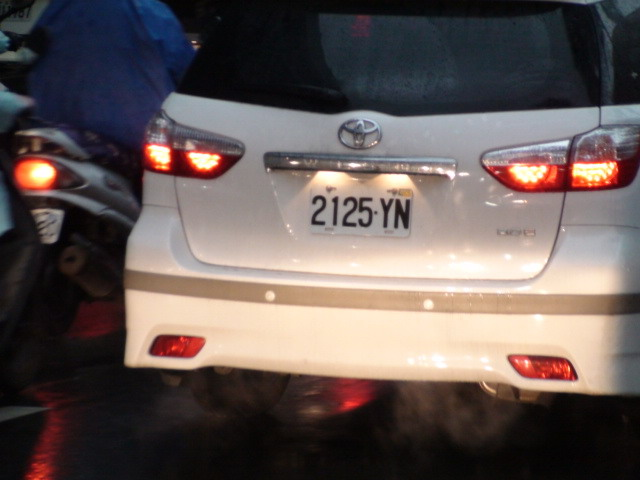plate: (308, 181, 416, 240)
